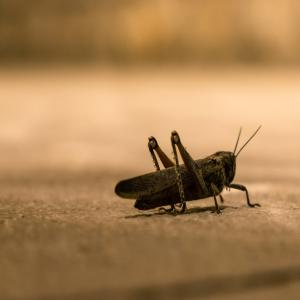locust: (106, 118, 289, 230)
